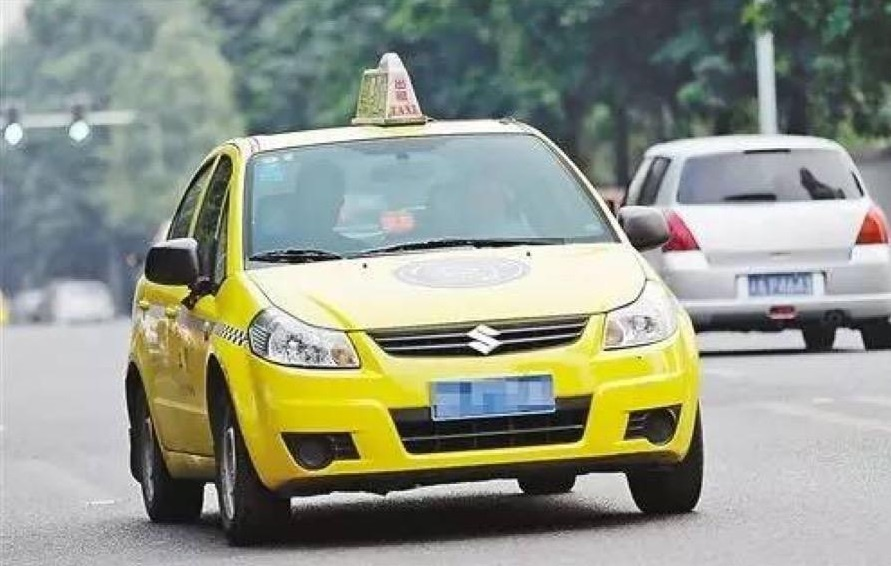taxi: (125, 42, 733, 540)
